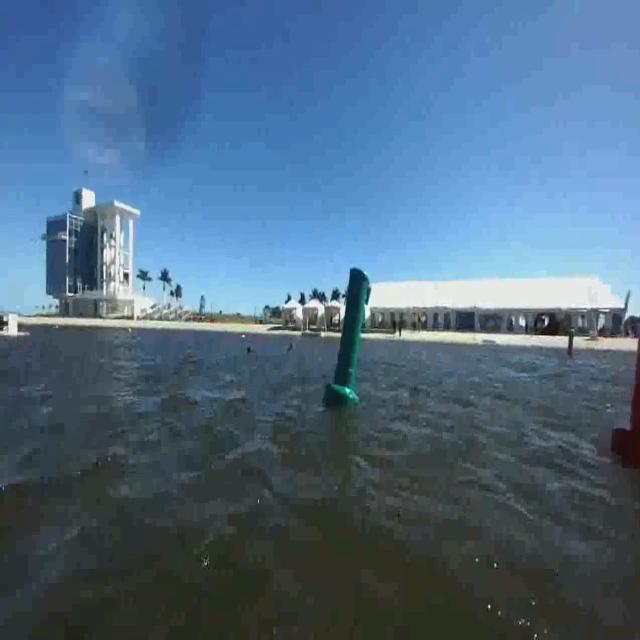green-column-buoy: (327, 266, 373, 407)
